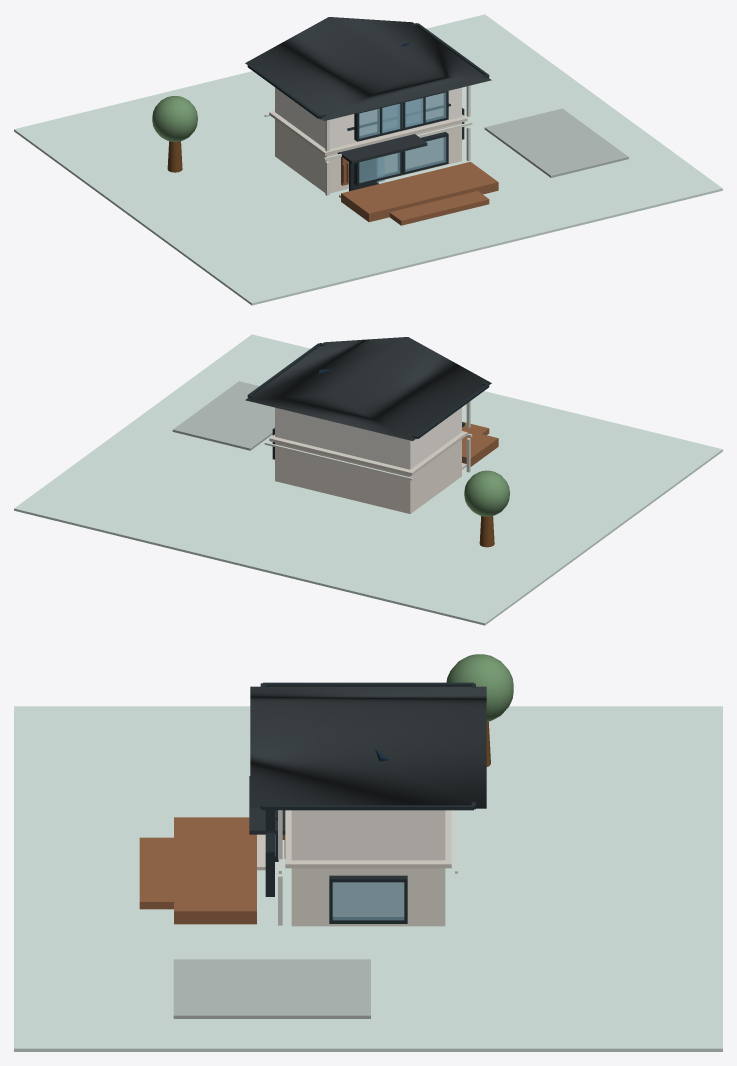
File: generated-shell-pnu-41450-002.meshopt.glb
3 views of the same model, one above another, from view 1: azimuth 30°, elevation 25°; view 2: azimuth 150°, elevation 25°; view 3: azimuth 270°, elevation 25° (orthographic). The views are drawn at different scales.
Parts seen in each view (by area): view 1: IfcSite_ServicePreviewBase, IfcRoof_GableRoof, IfcSpace_ParkingPad, IfcWindow_Glass (×5), IfcSlab_shell-c1-PNU-41450-002-slab-block-front-deck-1ccdaf6, IfcBuildingElementProxy_FloorMass_L1, IfcBuildingElementProxy_FloorMass_L2, IfcGeographicElement_GardenTree, IfcSlab_DeckModule, IfcSlab_LevelCap_L1, IfcCovering_EntranceCanopy, IfcDoor_MainEntranceFrame; view 2: IfcSite_ServicePreviewBase, IfcRoof_GableRoof, IfcBuildingElementProxy_FloorMass_L1, IfcBuildingElementProxy_FloorMass_L2, IfcSpace_ParkingPad, IfcGeographicElement_GardenTree, IfcSlab_LevelCap_L1, IfcSlab_shell-c1-PNU-41450-002-slab-block-front-deck-1ccdaf6, IfcCovering_BackShadowBand_L1; view 3: IfcSite_ServicePreviewBase, IfcRoof_GableRoof, IfcSpace_ParkingPad, IfcSlab_shell-c1-PNU-41450-002-slab-block-front-deck-1ccdaf6, IfcBuildingElementProxy_FloorMass_L1, IfcBuildingElementProxy_FloorMass_L2, IfcWindow_Glass, IfcGeographicElement_GardenTree, IfcSlab_DeckModule, IfcSlab_LevelCap_L1, IfcCovering_RoofGutterRight, IfcCovering_RoofGutterLeft (+1 smaller).
Boxes of the visible parts, x1,y1,x2,y2 form: IfcSite_ServicePreviewBase: [14, 14, 722, 305]; IfcRoof_GableRoof: [245, 17, 491, 120]; IfcSpace_ParkingPad: [484, 108, 628, 177]; IfcWindow_Glass (×5): [359, 92, 446, 182]; IfcSlab_shell-c1-PNU-41450-002-slab-block-front-deck-1ccdaf6: [341, 161, 498, 222]; IfcBuildingElementProxy_FloorMass_L1: [275, 119, 461, 193]; IfcBuildingElementProxy_FloorMass_L2: [275, 87, 461, 148]; IfcGeographicElement_GardenTree: [152, 96, 197, 172]; IfcSlab_DeckModule: [389, 191, 489, 225]; IfcSlab_LevelCap_L1: [269, 111, 467, 155]; IfcCovering_EntranceCanopy: [337, 134, 427, 163]; IfcDoor_MainEntranceFrame: [349, 159, 378, 191]; IfcSite_ServicePreviewBase: [14, 334, 722, 625]; IfcRoof_GableRoof: [245, 337, 491, 440]; IfcBuildingElementProxy_FloorMass_L1: [275, 439, 461, 513]; IfcBuildingElementProxy_FloorMass_L2: [275, 407, 461, 469]; IfcSpace_ParkingPad: [172, 381, 274, 450]; IfcGeographicElement_GardenTree: [464, 470, 509, 547]; IfcSlab_LevelCap_L1: [269, 431, 467, 475]; IfcSlab_shell-c1-PNU-41450-002-slab-block-front-deck-1ccdaf6: [462, 429, 498, 466]; IfcCovering_BackShadowBand_L1: [264, 442, 412, 480]; IfcSite_ServicePreviewBase: [14, 706, 722, 1051]; IfcRoof_GableRoof: [250, 686, 486, 808]; IfcSpace_ParkingPad: [173, 959, 370, 1018]; IfcSlab_shell-c1-PNU-41450-002-slab-block-front-deck-1ccdaf6: [174, 817, 256, 924]; IfcBuildingElementProxy_FloorMass_L1: [291, 868, 445, 926]; IfcBuildingElementProxy_FloorMass_L2: [291, 810, 445, 860]; IfcWindow_Glass: [332, 882, 404, 920]; IfcGeographicElement_GardenTree: [446, 654, 513, 766]; IfcSlab_DeckModule: [139, 837, 173, 909]; IfcSlab_LevelCap_L1: [285, 810, 451, 868]; IfcCovering_RoofGutterRight: [263, 805, 473, 810]; IfcCovering_RoofGutterLeft: [263, 682, 473, 686].
Bounding box in the file's own units: 32 × 7.65 × 28.
